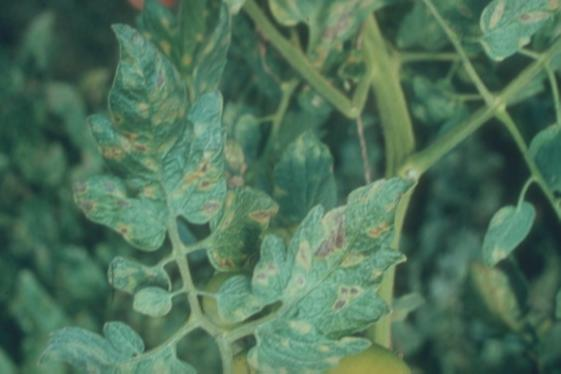Tomato mold leaf: (220, 175, 431, 371), (73, 18, 231, 252), (471, 0, 561, 63), (481, 193, 540, 275), (130, 281, 177, 319)
